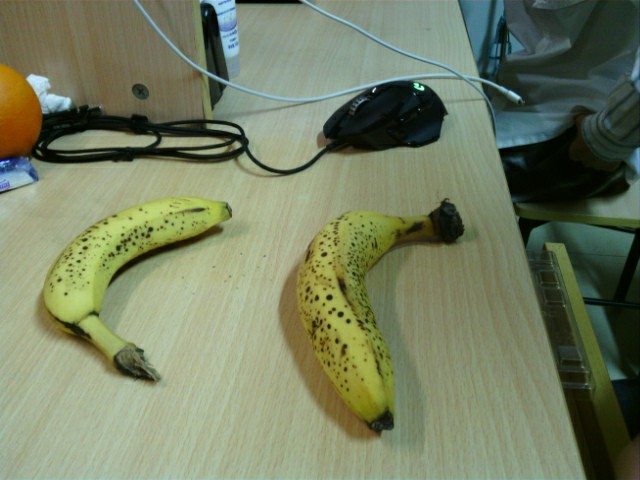normal_banana: (295, 199, 465, 435), (42, 197, 234, 385)
